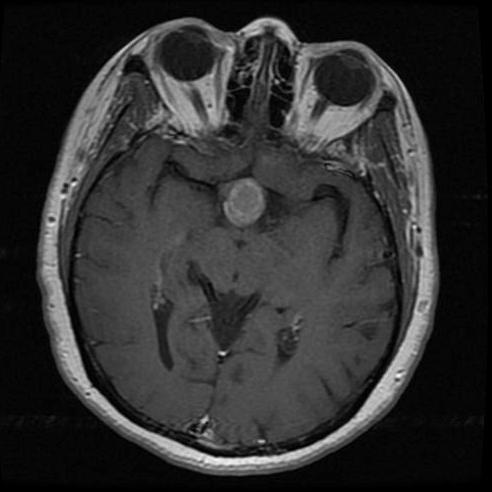Tumour-Pituitary: (223, 178, 271, 235)
